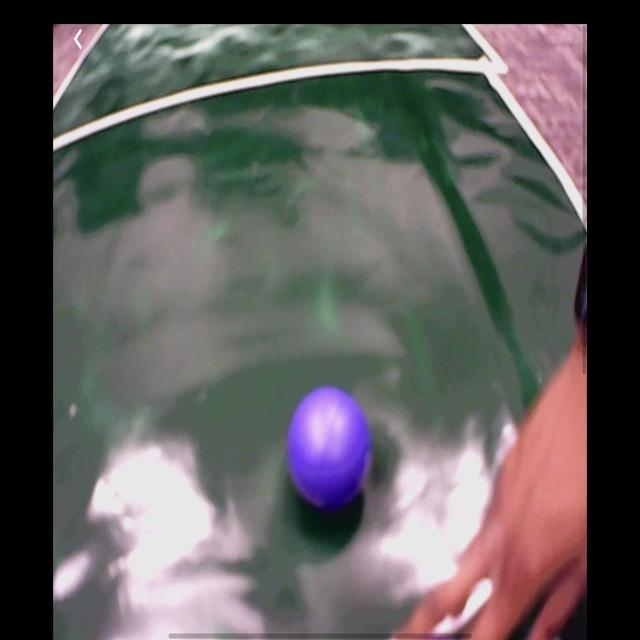ball: (287, 388, 373, 514)
